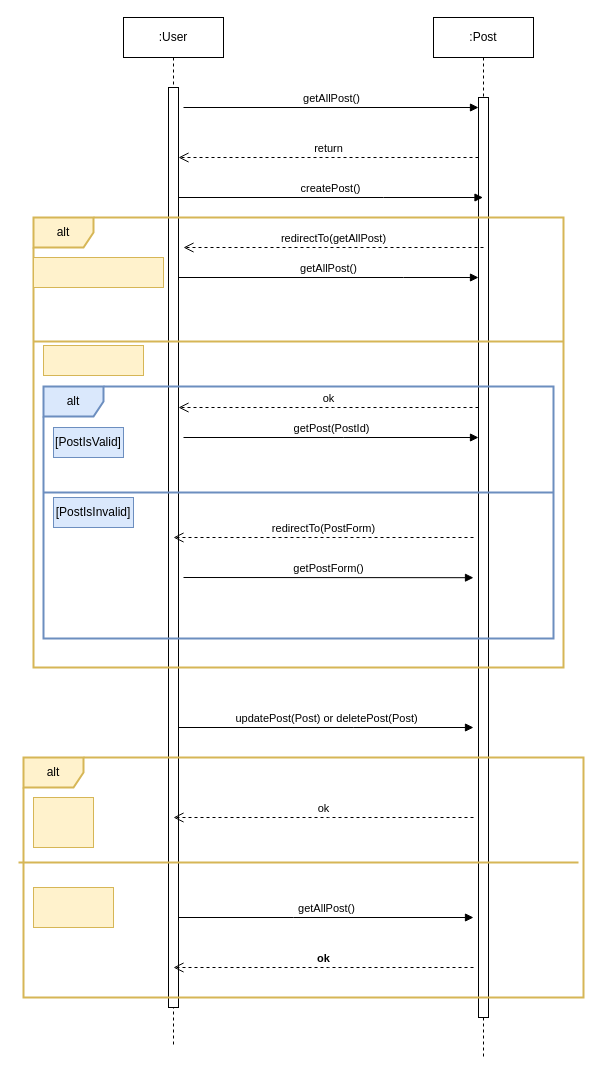
Image size: 601x1075. Some labels were removed from this diagram. The centre of each missing label's shape, as x and y in pixels:
"[IsAuthor] OR [IsAdmin]" belongs at (63,822).
"[IsNotGranted]" belongs at (73,907).
"[userIsConnected]" belongs at (93,360).
"[userIsNotConnected]" belongs at (98,272).
